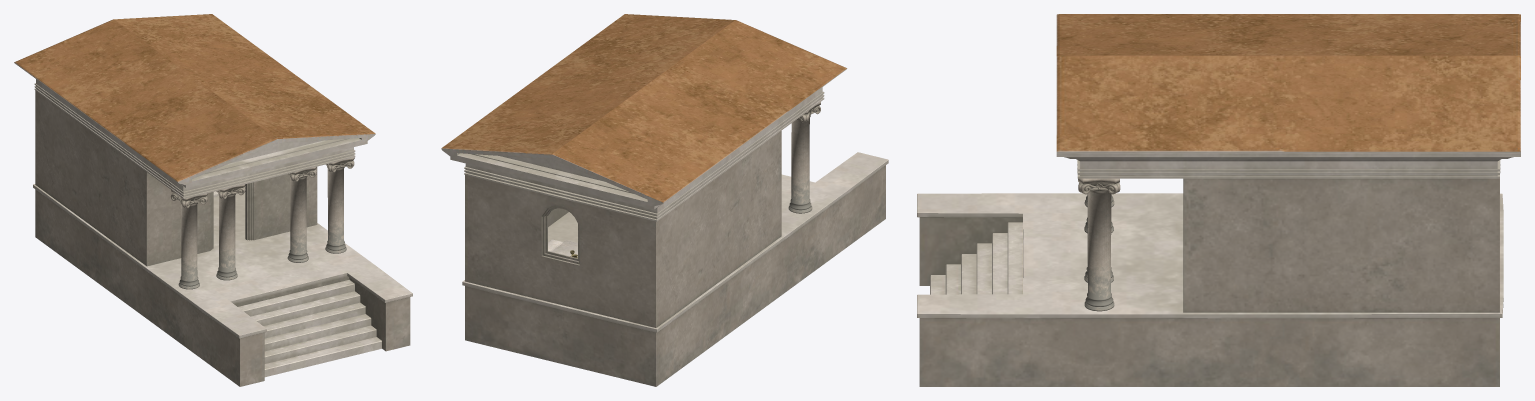
Rendered from roman_house_oltar_cups.fbx.
3 views of the same model, side by side, from view 1: azimuth 30°, elevation 25°; view 2: azimuth 150°, elevation 25°; view 3: azimuth 270°, elevation 25° (orthographic). The views are drawn at different scales.
Parts seen in each view (by area): view 1: stepenice, roman_stup_01, roman_stup_01.001, roman_stup_01.002, roman_stup_01.003; view 2: stepenice, roman_stup_01, Cube.001; view 3: stepenice, roman_stup_01.003.
Part boxes in pixels (box(x1,y1,x2,y2)): stepenice: box(14, 14, 412, 386); roman_stup_01: box(170, 190, 207, 289); roman_stup_01.001: box(216, 184, 245, 280); roman_stup_01.002: box(287, 167, 316, 262); roman_stup_01.003: box(325, 157, 354, 253); stepenice: box(441, 14, 888, 386); roman_stup_01: box(788, 102, 820, 213); Cube.001: box(548, 239, 577, 257); stepenice: box(917, 14, 1520, 386); roman_stup_01.003: box(1078, 178, 1120, 311).
Size of the model in its own units: 582 by 540 by 1085.
Materials: 5 (5 with a texture image).
